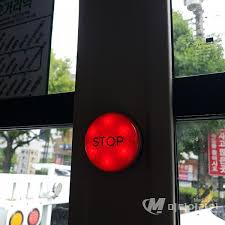bell: (81, 109, 146, 174)
